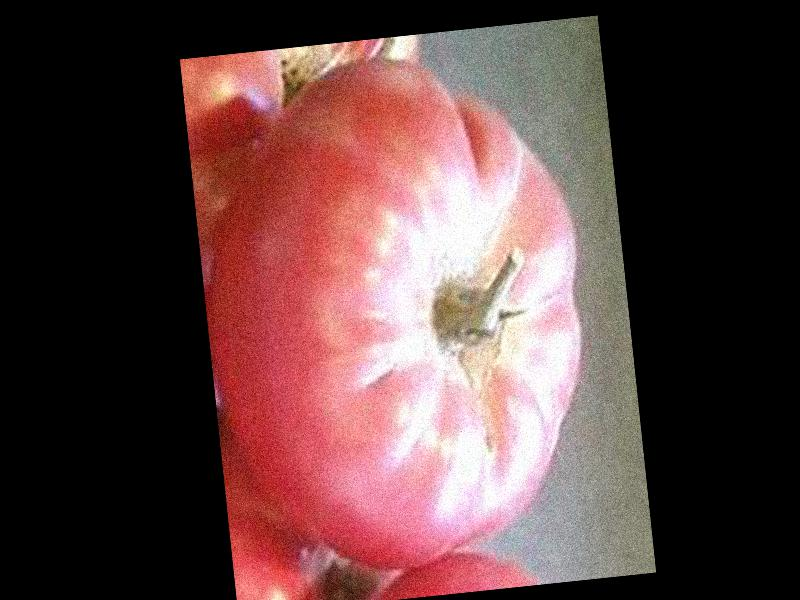Tomato: (183, 37, 606, 586)
